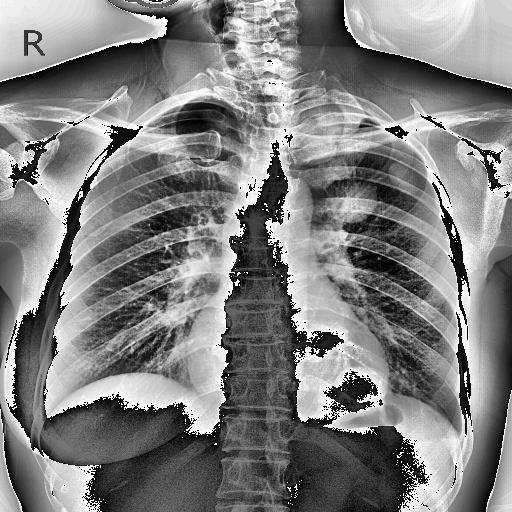7- Lung Opacity: (276, 88, 344, 156), (288, 102, 361, 151), (318, 368, 388, 419), (326, 187, 377, 223), (388, 162, 420, 192)
8- Nodule-Mass: (330, 365, 388, 414), (322, 180, 378, 224), (328, 176, 378, 222), (326, 187, 377, 223), (384, 164, 422, 195), (389, 161, 419, 195), (388, 162, 420, 192)
